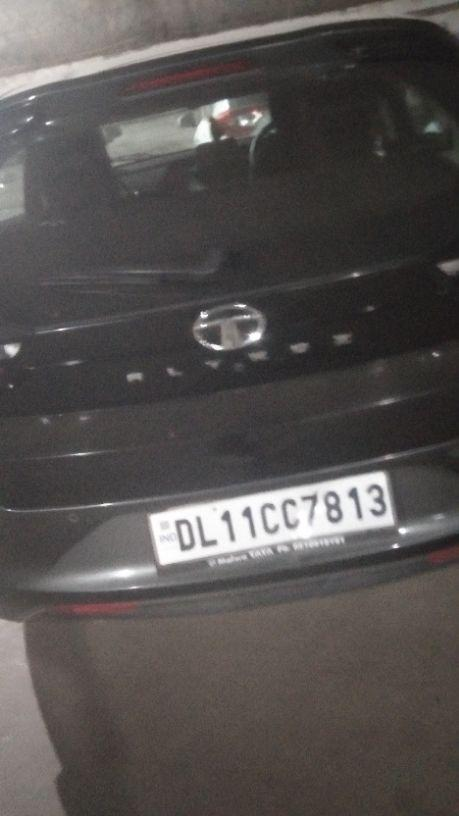license_plate: (145, 468, 398, 570)
